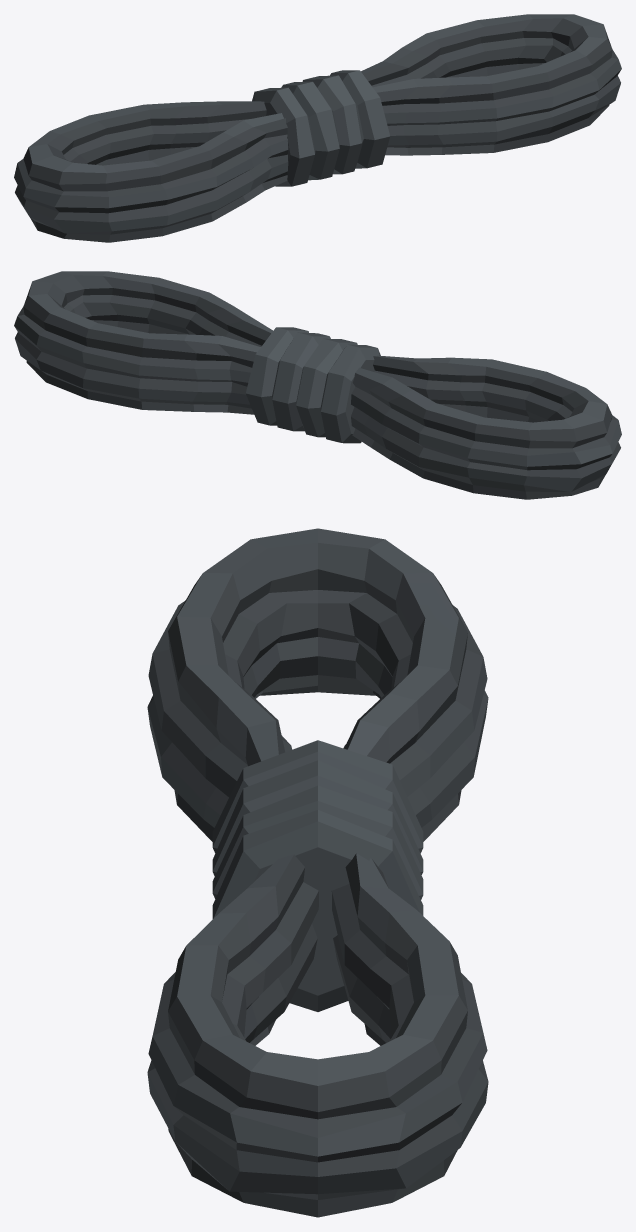
The model's file is Item_Rope_01.glb.
The picture shows the model from 3 angles, top to bottom: view 1: azimuth 30°, elevation 25°; view 2: azimuth 150°, elevation 25°; view 3: azimuth 270°, elevation 25°; orthographic projection. The views are drawn at different scales.
Visible parts, largest first — view 1: SM_Item_Rope_01; view 2: SM_Item_Rope_01; view 3: SM_Item_Rope_01.
Part boxes in pixels (left/top/right/bottom): SM_Item_Rope_01: left=14, top=14, right=621, bottom=242; SM_Item_Rope_01: left=14, top=271, right=621, bottom=499; SM_Item_Rope_01: left=147, top=528, right=488, bottom=1217.
Size of the model in its own units: 0.6456 by 0.1001 by 0.1618.
1 material, 1 textured.
